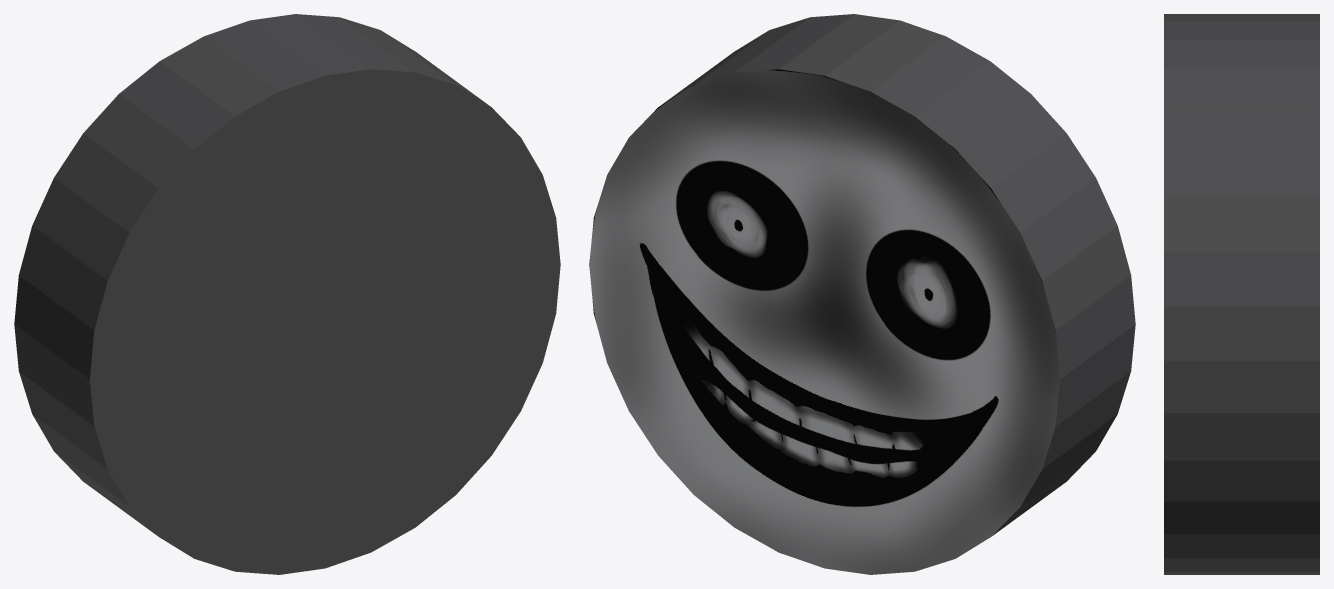
File: circulin.glb
The picture shows the model from 3 angles, left to right: view 1: azimuth 30°, elevation 25°; view 2: azimuth 150°, elevation 25°; view 3: azimuth 270°, elevation 25°; orthographic projection. The views are drawn at different scales.
Parts seen in each view (by area): view 1: Circle; view 2: Circle; view 3: Circle.
Part boxes in pixels (x1,y1,x2,y2): Circle: (14,14,560,574); Circle: (589,14,1135,574); Circle: (1164,14,1319,574).
Size of the model in its own units: 2 by 2 by 0.5556.
Materials: 1 (1 with a texture image).
